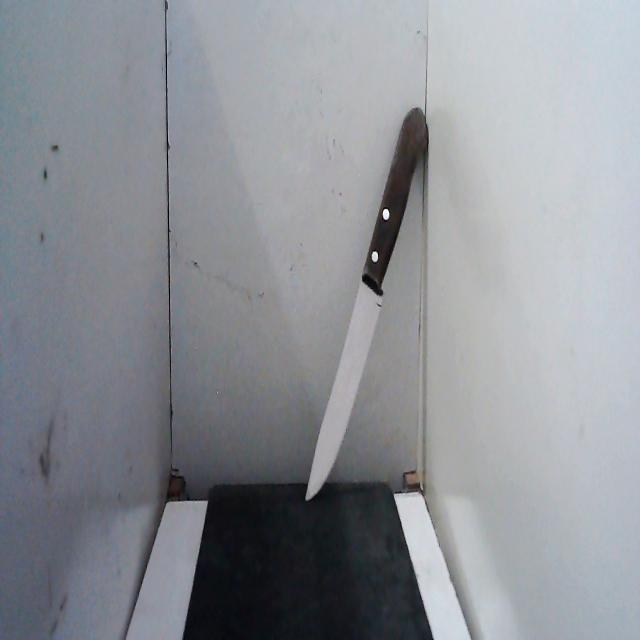metal: (297, 276, 399, 518)
